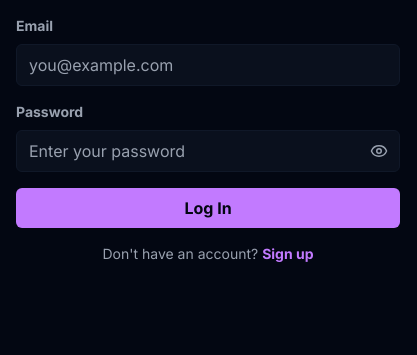
LoginForm › shows an error message and no success message on invalid credentials
Type "agent@example.com" into the field labelled "Email".
click(208, 65); type("agent@example.com")  # box [16,44,400,86]
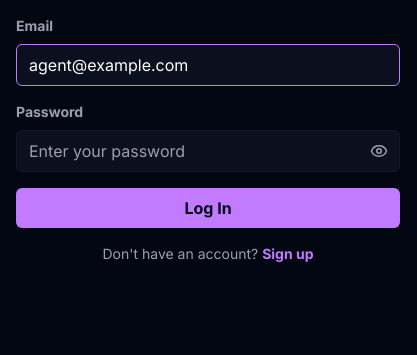
Type "hunter2" into the password field labelled "Password".
click(208, 151); type("hunter2")  # box [16,130,400,172]
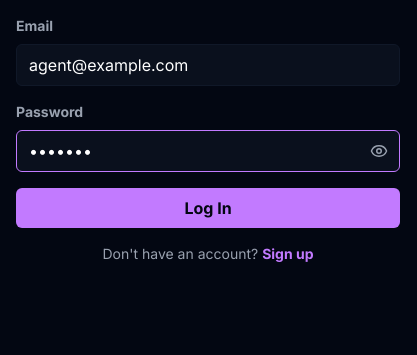
Click the button "Log In".
click(208, 208)  # box [16,188,400,228]
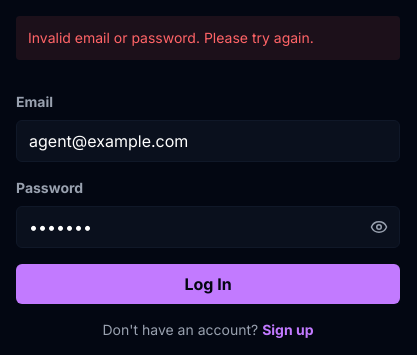
Check: the text "Invalid email or password. Please try again." is shown, box [16,16,400,60]
